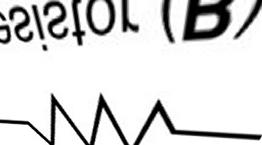resistor: (21, 82, 178, 144)
